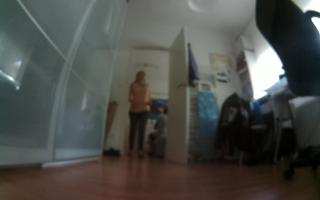person: (123, 68, 156, 161), (145, 106, 173, 160)
